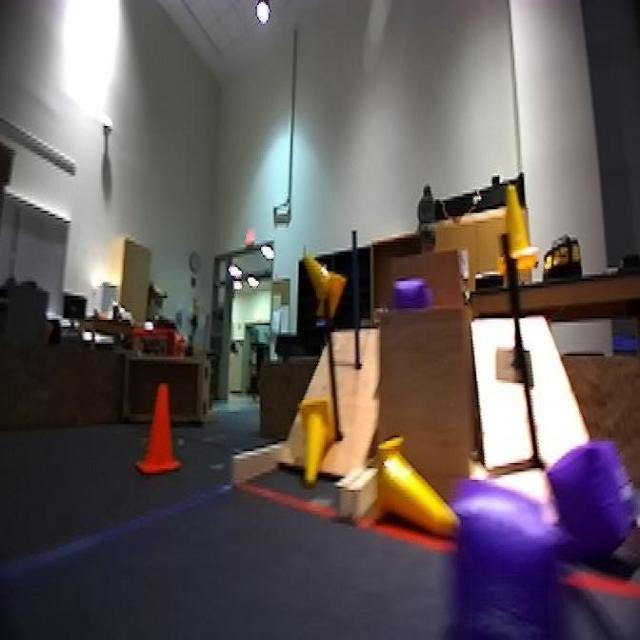frc_cone: (376, 439, 462, 535), (493, 177, 540, 279), (296, 395, 337, 494), (299, 247, 347, 328)
frc_cube: (448, 473, 559, 640), (552, 432, 632, 564), (388, 281, 433, 311)
